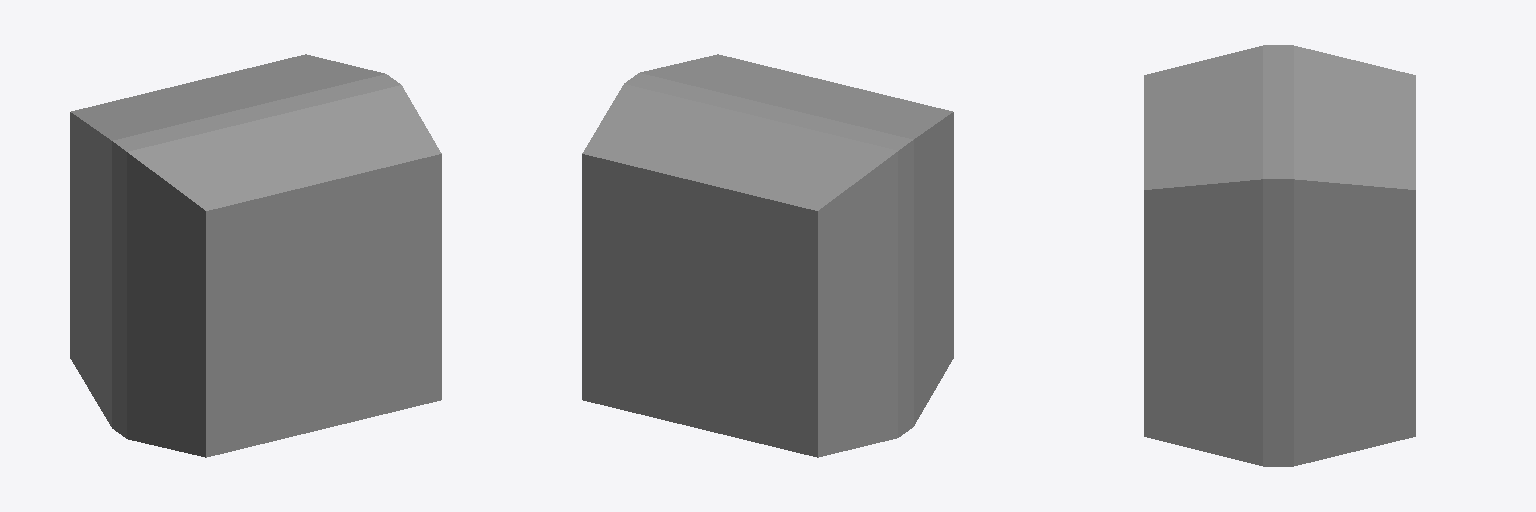
Rendered from candyMissile.obj.
3 renders of one model, left to right at view 1: azimuth 30°, elevation 25°; view 2: azimuth 150°, elevation 25°; view 3: azimuth 270°, elevation 25°, orthographic.
Parts seen in each view (by area): view 1: Cube; view 2: Cube; view 3: Cube.
Boxes of the visible parts, <box> form: Cube: <box>70,54,441,457</box>; Cube: <box>582,54,953,457</box>; Cube: <box>1144,45,1415,466</box>.
Bounding box in the file's own units: 1.38 × 1.38 × 1.19.